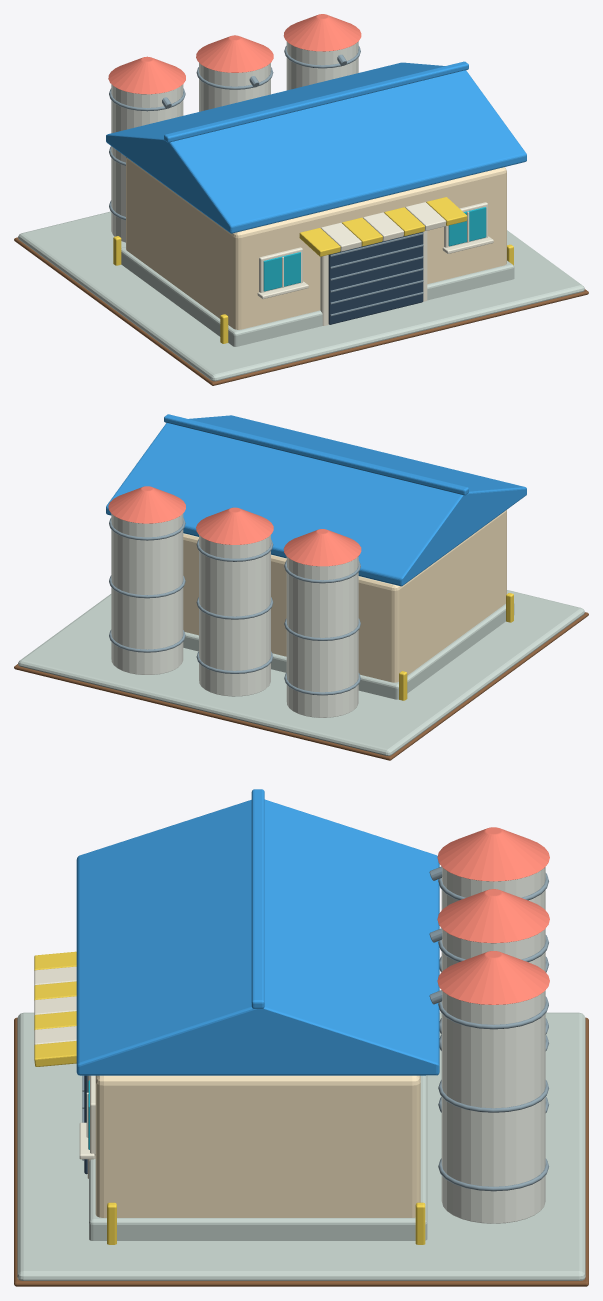
Rendered from SM_Supplier.fbx.
3 views of the same model, one above another, from view 1: azimuth 30°, elevation 25°; view 2: azimuth 150°, elevation 25°; view 3: azimuth 270°, elevation 25° (orthographic). The views are drawn at different scales.
Parts seen in each view (by area): view 1: Solid pitched roof, Warehouse main volume, Beveled site foundation.005, Roller loading door, Warehouse plinth, Storage silo, Roof ridge cap, Foundation shadow course.005, Storage silo.002, Storage silo.001, Silo conical cap.002, Silo conical cap (+12 smaller); view 2: Solid pitched roof, Beveled site foundation.005, Warehouse main volume, Storage silo.002, Storage silo, Storage silo.001, Warehouse plinth, Roof ridge cap, Foundation shadow course.005, Silo conical cap, Silo conical cap.002, Silo conical cap.001; view 3: Solid pitched roof, Beveled site foundation.005, Warehouse main volume, Storage silo.002, Warehouse plinth, Foundation shadow course.005, Silo conical cap, Silo conical cap.001, Silo conical cap.002, Roof ridge cap, Storage silo.001, Storage silo (+10 smaller).
Part boxes in pixels (box(x1,y1,x2,y2)): Solid pitched roof: box(106, 62, 526, 233); Warehouse main volume: box(126, 157, 506, 329); Beveled site foundation.005: box(18, 211, 584, 381); Roller loading door: box(328, 232, 423, 324); Warehouse plinth: box(121, 247, 514, 346); Storage silo: box(111, 84, 183, 242); Roof ridge cap: box(164, 61, 468, 142); Foundation shadow course.005: box(14, 237, 588, 385); Storage silo.002: box(286, 41, 358, 90); Storage silo.001: box(199, 63, 270, 111); Silo conical cap.002: box(283, 14, 361, 51); Silo conical cap: box(108, 56, 185, 94); Solid pitched roof: box(106, 415, 526, 586); Beveled site foundation.005: box(18, 590, 584, 755); Warehouse main volume: box(183, 510, 506, 682); Storage silo.002: box(111, 513, 183, 674); Storage silo: box(286, 556, 358, 717); Storage silo.001: box(199, 535, 270, 696); Warehouse plinth: box(183, 603, 514, 699); Roof ridge cap: box(164, 414, 468, 495); Foundation shadow course.005: box(14, 612, 588, 760); Silo conical cap: box(283, 529, 361, 566); Silo conical cap.002: box(108, 486, 185, 523); Silo conical cap.001: box(196, 507, 273, 544); Solid pitched roof: box(76, 799, 439, 1075); Beveled site foundation.005: box(17, 1012, 585, 1280); Warehouse main volume: box(95, 1075, 420, 1217); Storage silo.002: box(441, 990, 545, 1223); Warehouse plinth: box(89, 1075, 427, 1240); Foundation shadow course.005: box(14, 1017, 588, 1286); Silo conical cap: box(437, 827, 549, 881); Silo conical cap.001: box(437, 889, 549, 943); Silo conical cap.002: box(437, 951, 549, 1004); Roof ridge cap: box(251, 789, 264, 1008); Storage silo.001: box(441, 928, 545, 971); Storage silo: box(441, 867, 545, 909).
Bounding box in the file's own units: 11.62 × 5.34 × 10.62.
